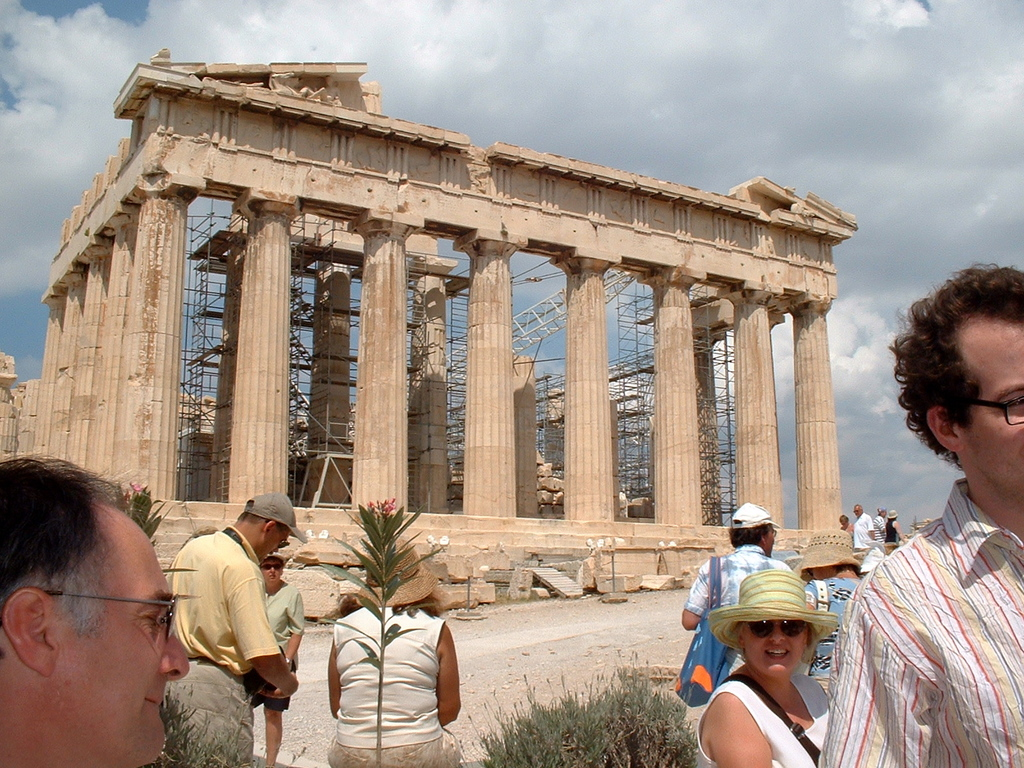Human-face: (52, 519, 192, 764), (961, 316, 1023, 500), (742, 620, 811, 675)
